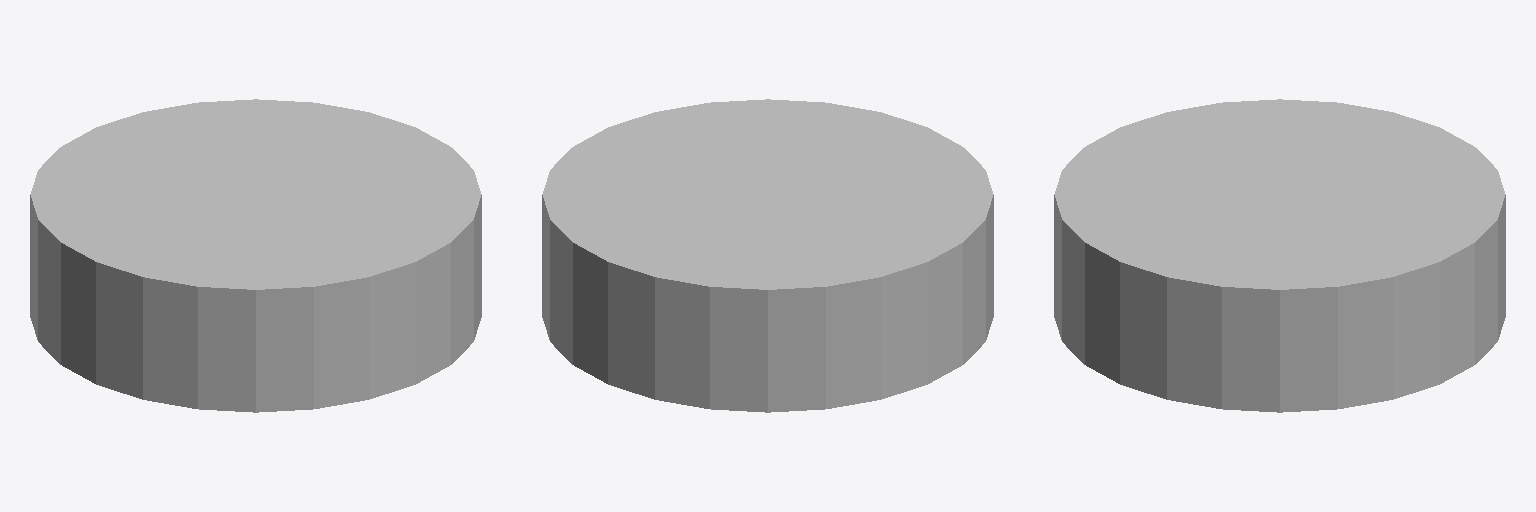
Rendered from puck.obj.
3 renders of one model, left to right at view 1: azimuth 30°, elevation 25°; view 2: azimuth 150°, elevation 25°; view 3: azimuth 270°, elevation 25°, orthographic.
Parts seen in each view (by area): view 1: pCylinder2; view 2: pCylinder2; view 3: pCylinder2.
Part boxes in pixels (left/top/right/bottom): pCylinder2: left=30, top=99, right=481, bottom=412; pCylinder2: left=542, top=99, right=993, bottom=412; pCylinder2: left=1054, top=99, right=1505, bottom=412.
Bounding box in the file's own units: 5 × 1.5 × 5.